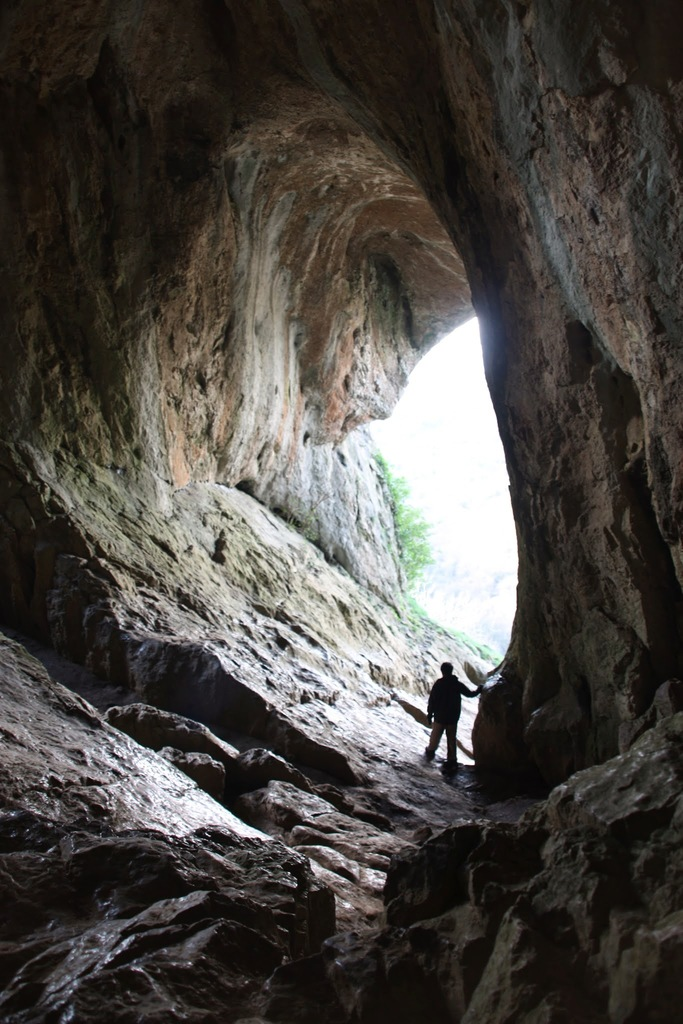Person: (424, 661, 484, 769)
